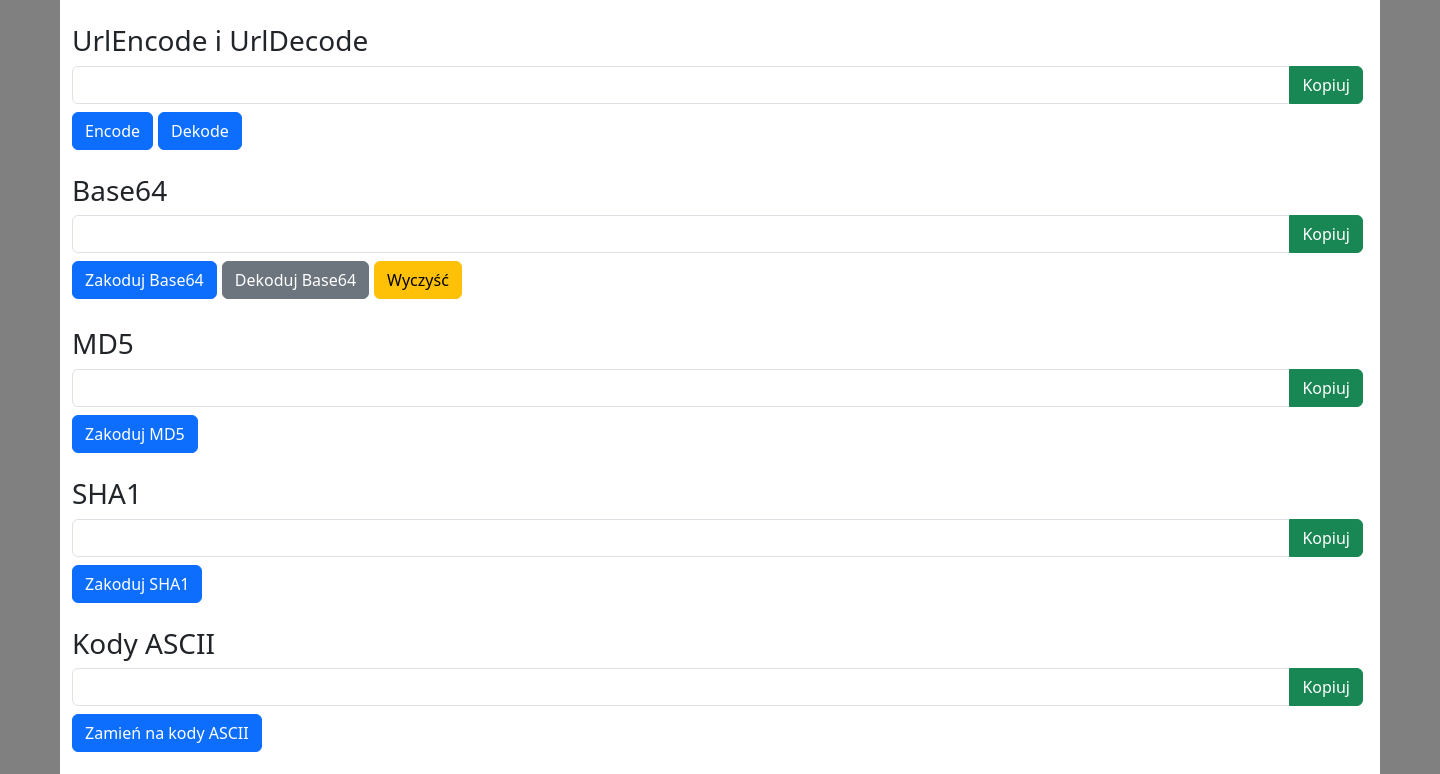
Test: App Component Tests › sprawdź md5
The width and height of the screenshot is (1440, 774).
(page scrolled)
Type "1234" into the 3rd field named "input_md5" at (681, 388), box [72,369,1290,407]
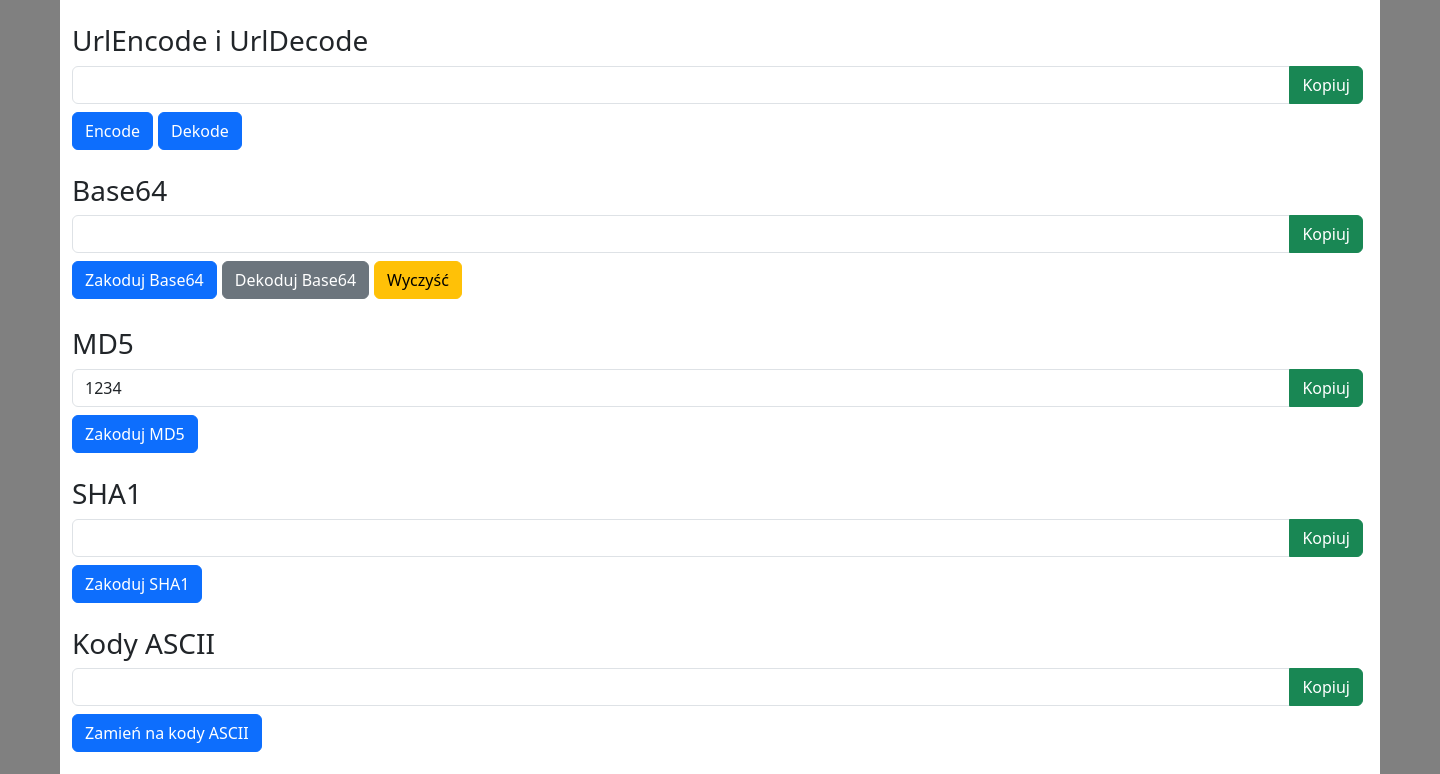
Click the button "Zakoduj MD5" at (135, 434), box [72,415,198,453]
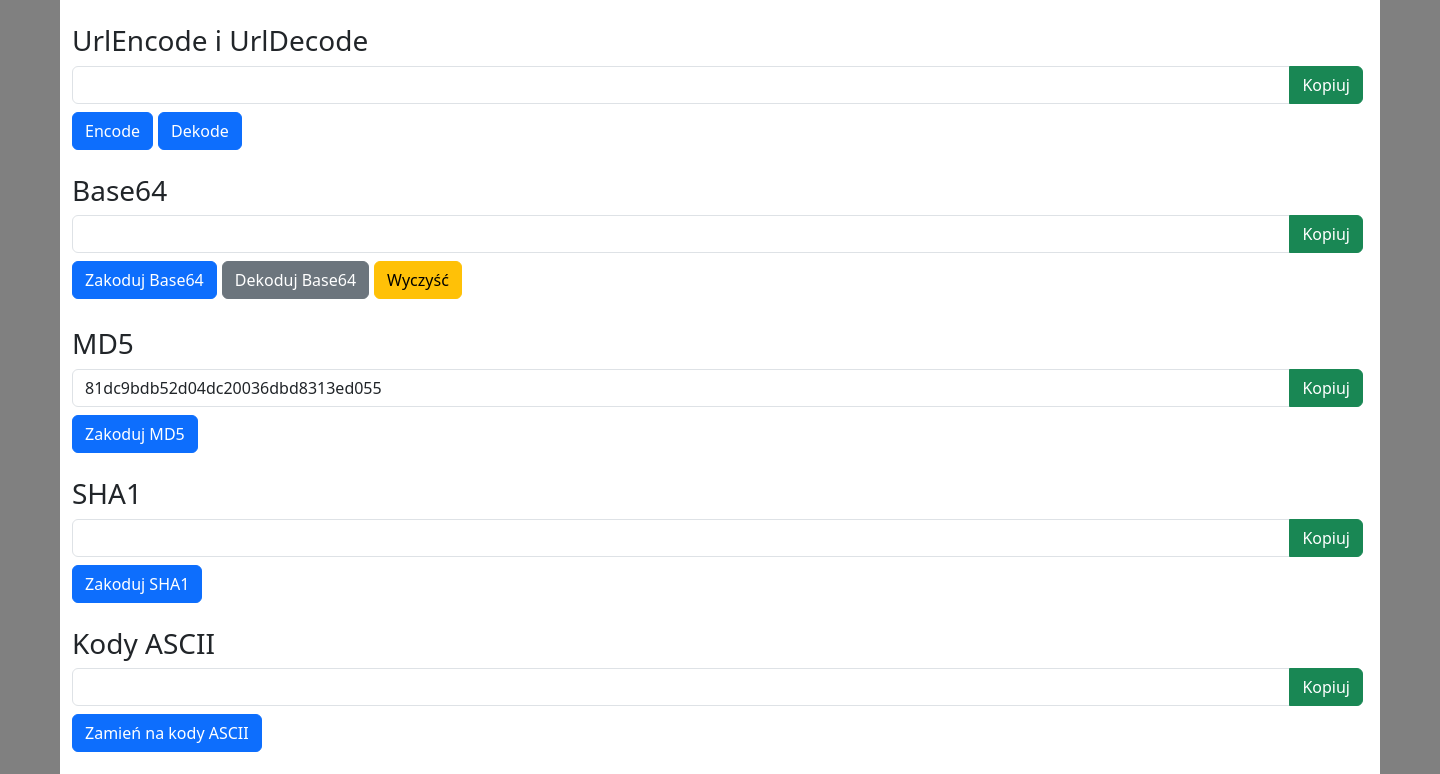
Result: the 3rd field named "input_md5" holds "81dc9bdb52d04dc20036dbd8313ed055" at [72,369,1290,407]
